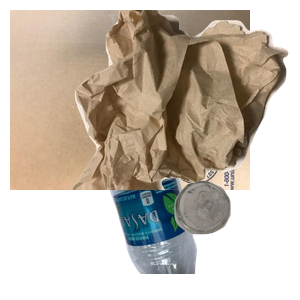cardboard: (10, 10, 250, 190)
glass: (172, 178, 300, 300)
plastic: (99, 120, 289, 300)
trash: (70, 10, 300, 190)
